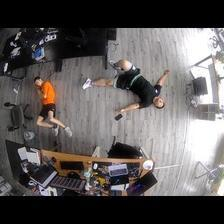fall: (82, 57, 170, 116), (31, 75, 74, 138)
